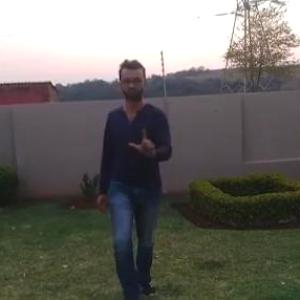land_hand: (126, 125, 161, 161)
